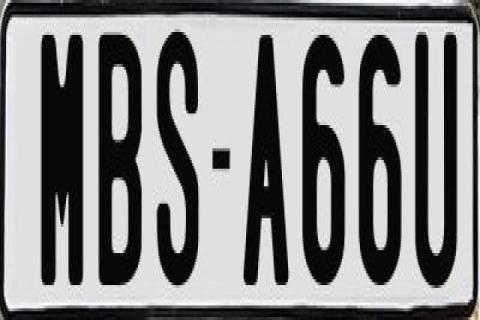0: (360, 35, 404, 297), (302, 32, 344, 300)
A: (240, 35, 292, 299)
B: (98, 32, 146, 294)
M: (38, 35, 84, 285)
S: (154, 29, 198, 285)
U: (414, 23, 460, 291)
